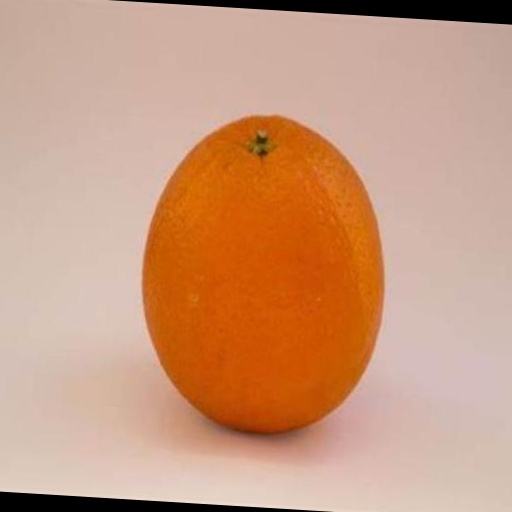fruit: (142, 116, 383, 432)
